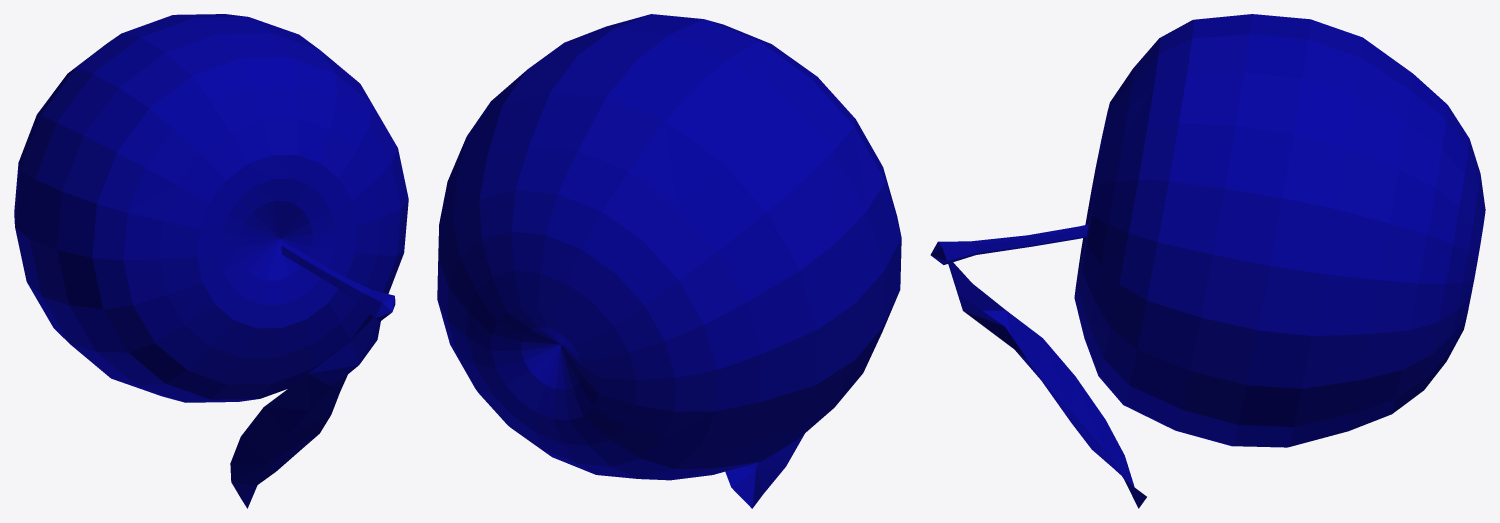
The model's file is apple1_2.dae.
The picture shows the model from 3 angles, left to right: view 1: azimuth 30°, elevation 25°; view 2: azimuth 150°, elevation 25°; view 3: azimuth 270°, elevation 25°; orthographic projection. The views are drawn at different scales.
Visible parts, largest first — view 1: M002004; view 2: M002004; view 3: M002004.
Part boxes in pixels (bbox=[...]): M002004: bbox=[14, 14, 408, 508]; M002004: bbox=[437, 14, 901, 508]; M002004: bbox=[930, 14, 1485, 508].
Size of the model in its own units: 0.1 by 0.1266 by 0.1222.
